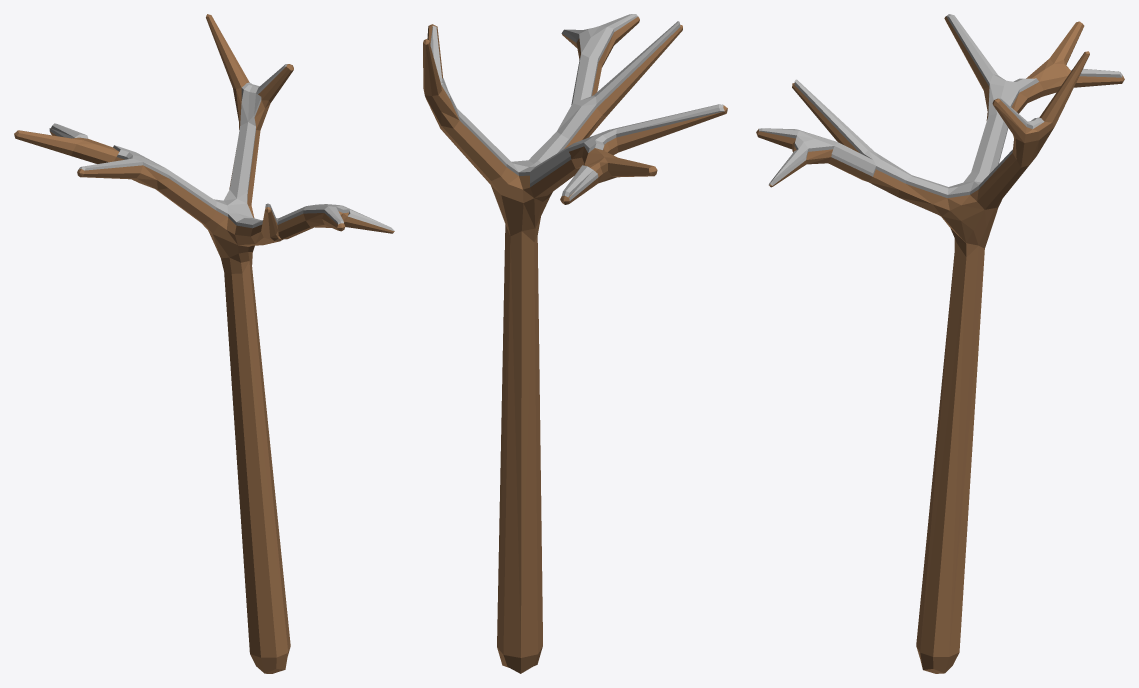
File: Tree_9 Winter.fbx
3 renders of one model, left to right at view 1: azimuth 30°, elevation 25°; view 2: azimuth 150°, elevation 25°; view 3: azimuth 270°, elevation 25°, orthographic. The views are drawn at different scales.
Visible parts, largest first — view 1: Tree9Winter_mesh; view 2: Tree9Winter_mesh; view 3: Tree9Winter_mesh.
Part boxes in pixels (box(x1,y1,x2,y2)): Tree9Winter_mesh: box(14, 14, 394, 673); Tree9Winter_mesh: box(423, 14, 727, 673); Tree9Winter_mesh: box(756, 14, 1124, 673).
Bounding box in the file's own units: 154 × 372 × 198.
